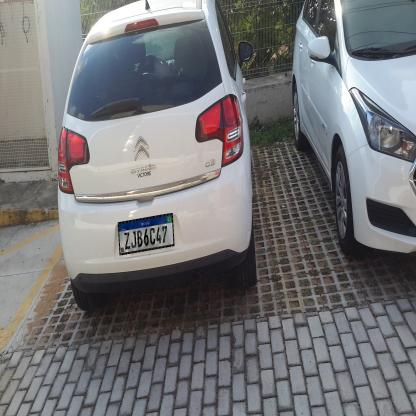PlacaM: (118, 213, 174, 255)
